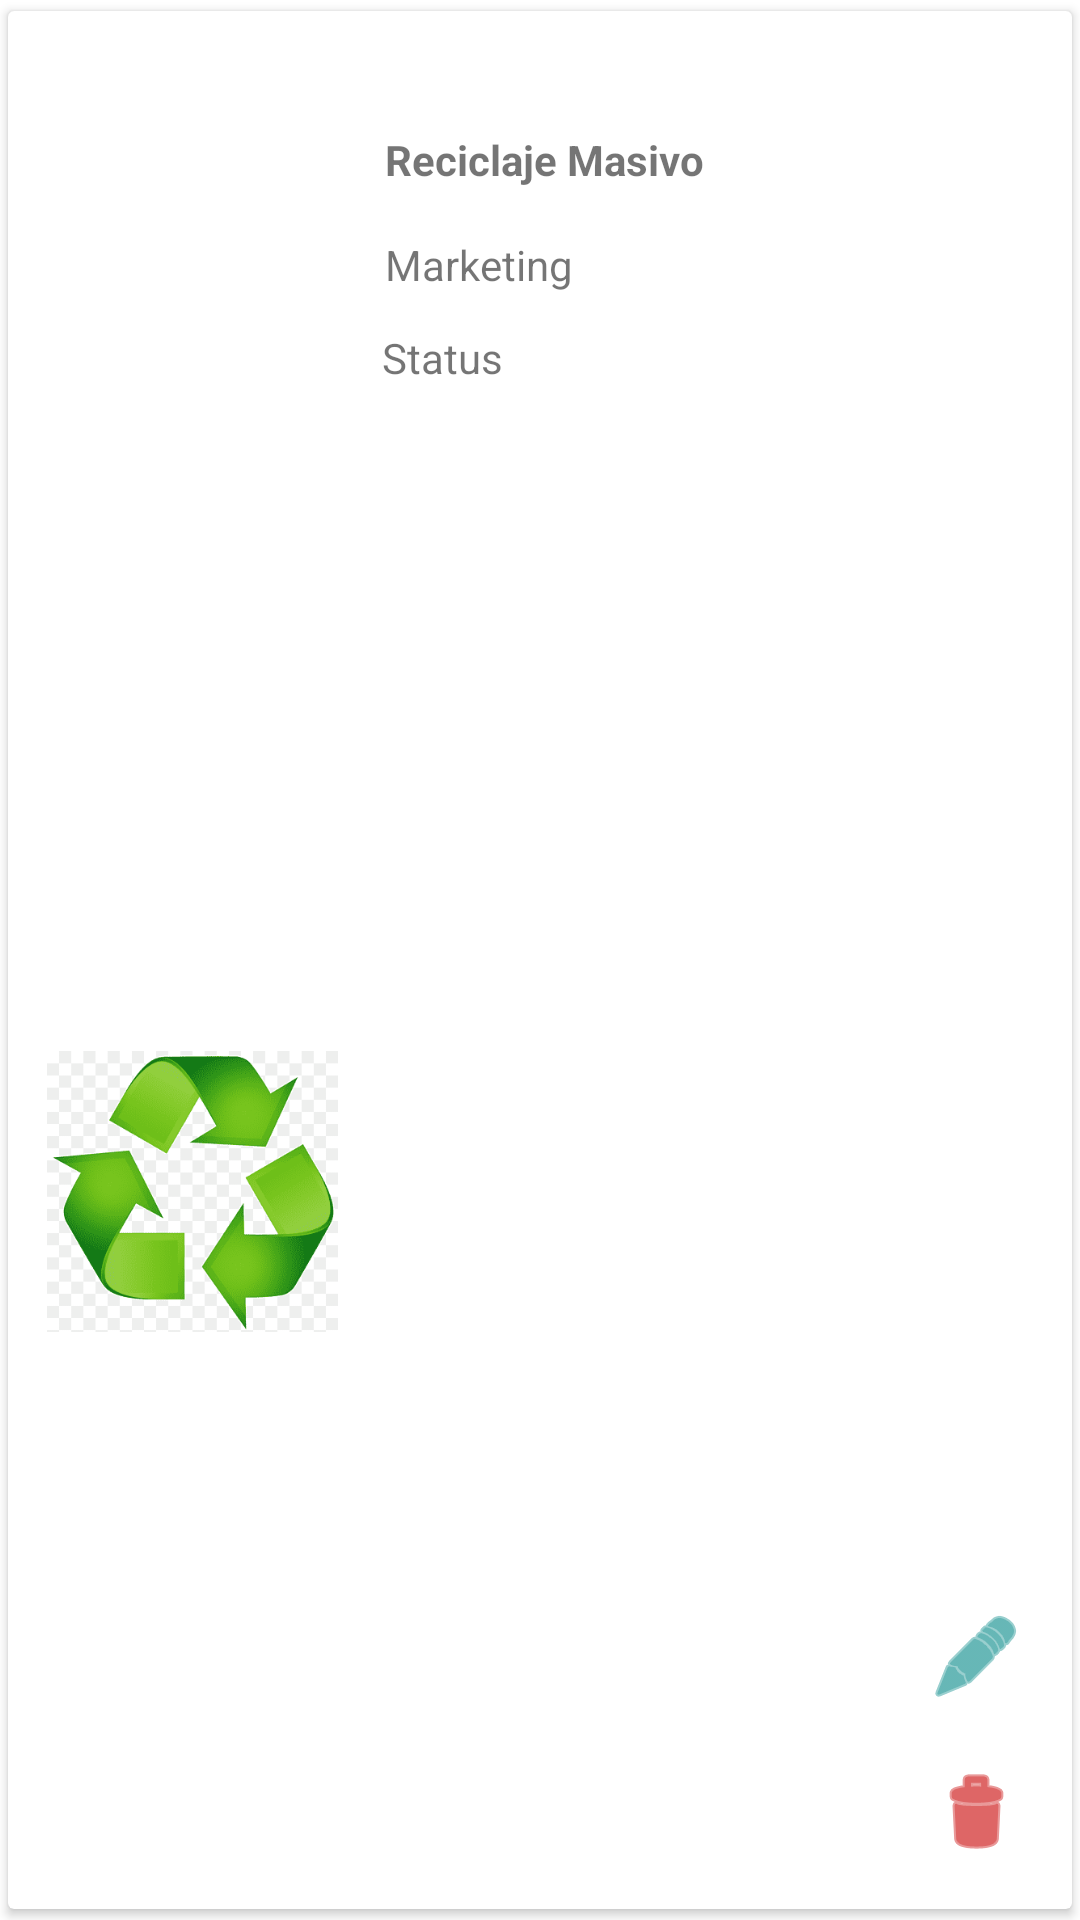

Screen size 1080px x 1920px. Icon name, then its box in pixels as {"x1": x1, "y1": y1, "x2": x2, "y2": y2}:
delete: {"x1": 949, "y1": 1774, "x2": 1004, "y2": 1849}
edit: {"x1": 935, "y1": 1616, "x2": 1016, "y2": 1697}
recycler: {"x1": 47, "y1": 1051, "x2": 338, "y2": 1332}
